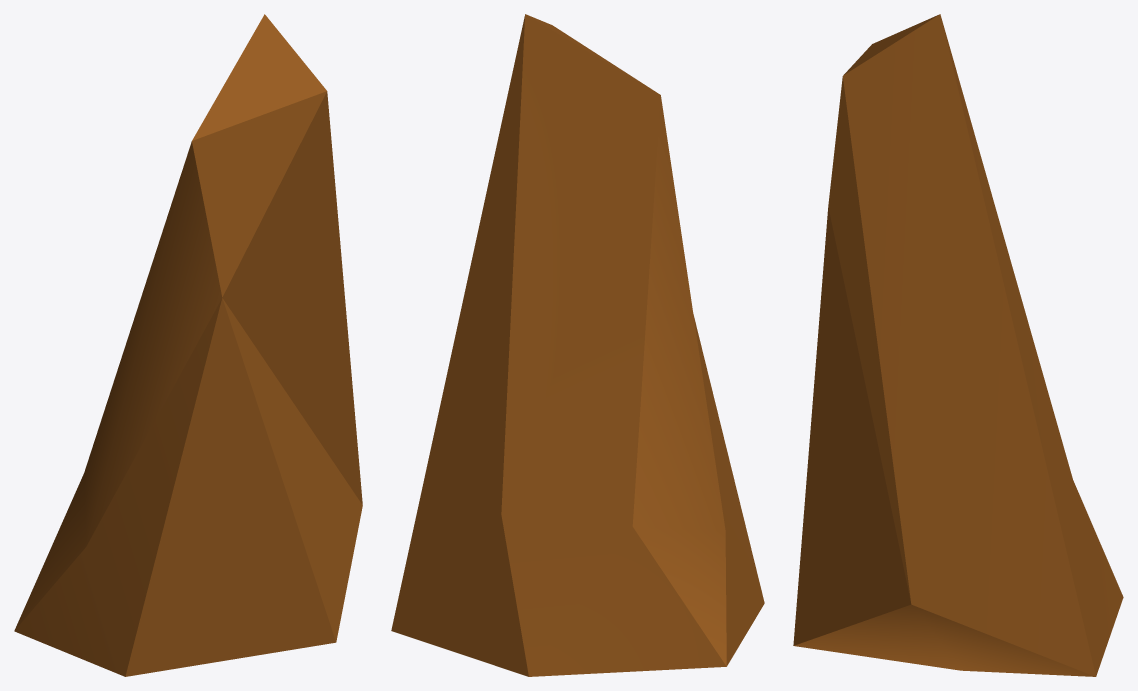
Rendered from Rock_Large_Tall_Dirt_03.fbx.
The picture shows the model from 3 angles, left to right: view 1: azimuth 30°, elevation 25°; view 2: azimuth 150°, elevation 25°; view 3: azimuth 270°, elevation 25°; orthographic projection. The views are drawn at different scales.
Parts seen in each view (by area): view 1: Model; view 2: Model; view 3: Model.
Part boxes in pixels (<box>): Model: <box>14,14,362,676</box>; Model: <box>391,14,764,676</box>; Model: <box>793,14,1123,676</box>.
Size of the model in its own units: 704 by 1337 by 597.
